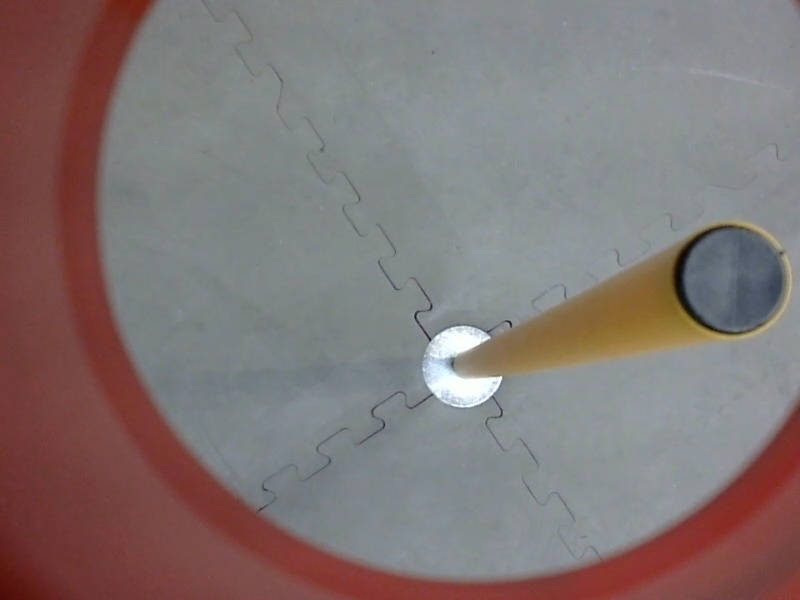tip: (669, 210, 795, 347)
